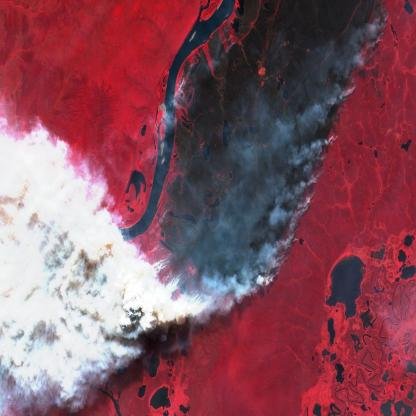fire: (120, 0, 401, 334)
